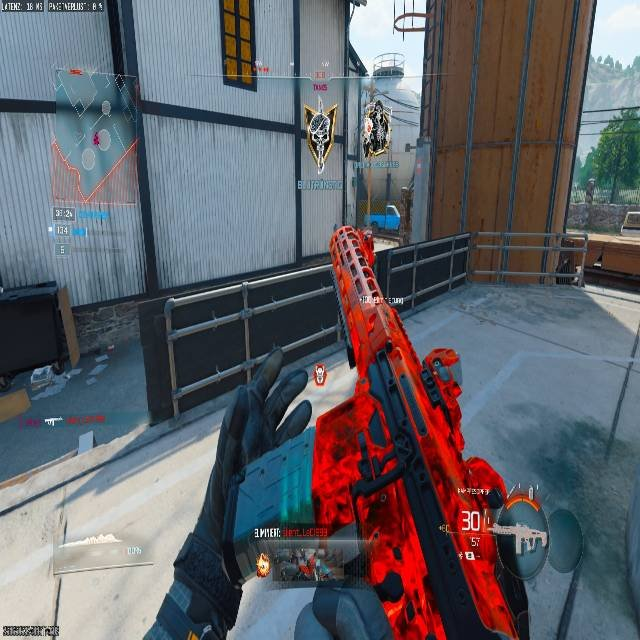player: (362, 95, 394, 158)
